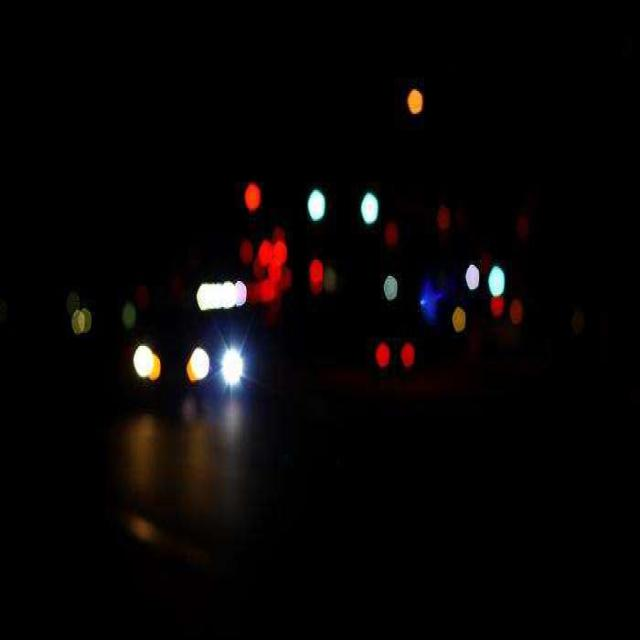other: (214, 331, 253, 399), (190, 274, 252, 316), (124, 336, 168, 394), (186, 349, 208, 388)
